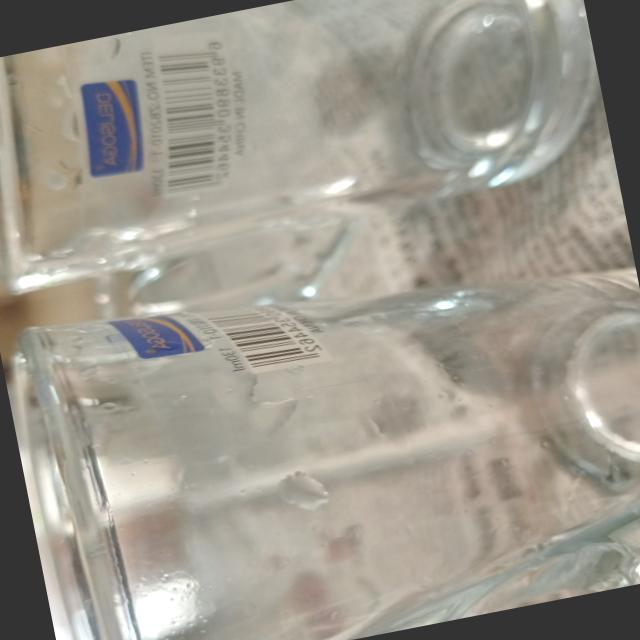glass-VX4N: (5, 206, 640, 640), (0, 0, 629, 358)
